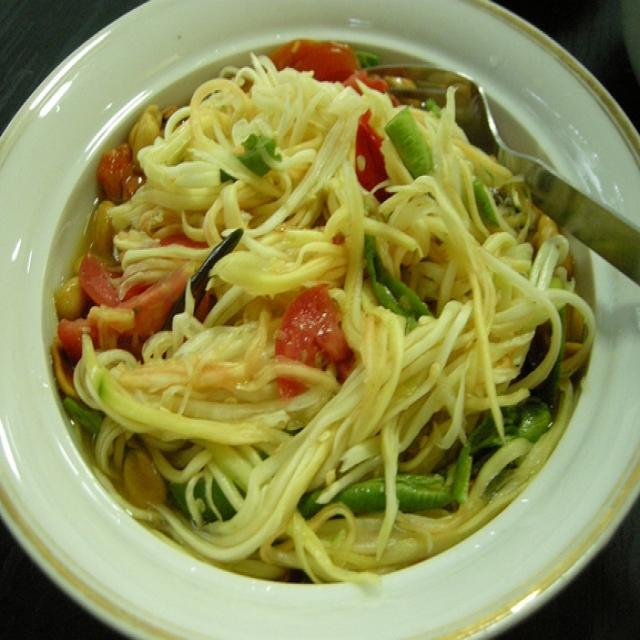蔬菜料理: (18, 14, 616, 598)
